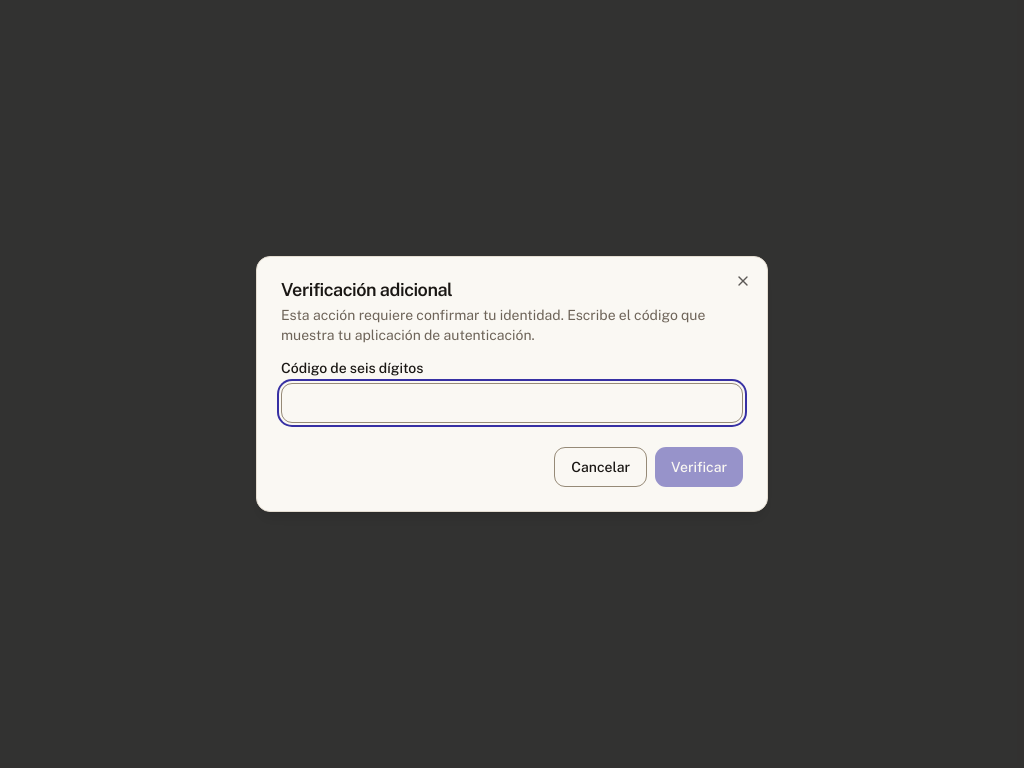
Test case: StepUpDialog › a refused code shows the uniform refusal and resolves nothing
Type "000000" into the field labelled "Código de seis dígitos".
click(512, 403); type("000000")  # box [281,383,743,423]
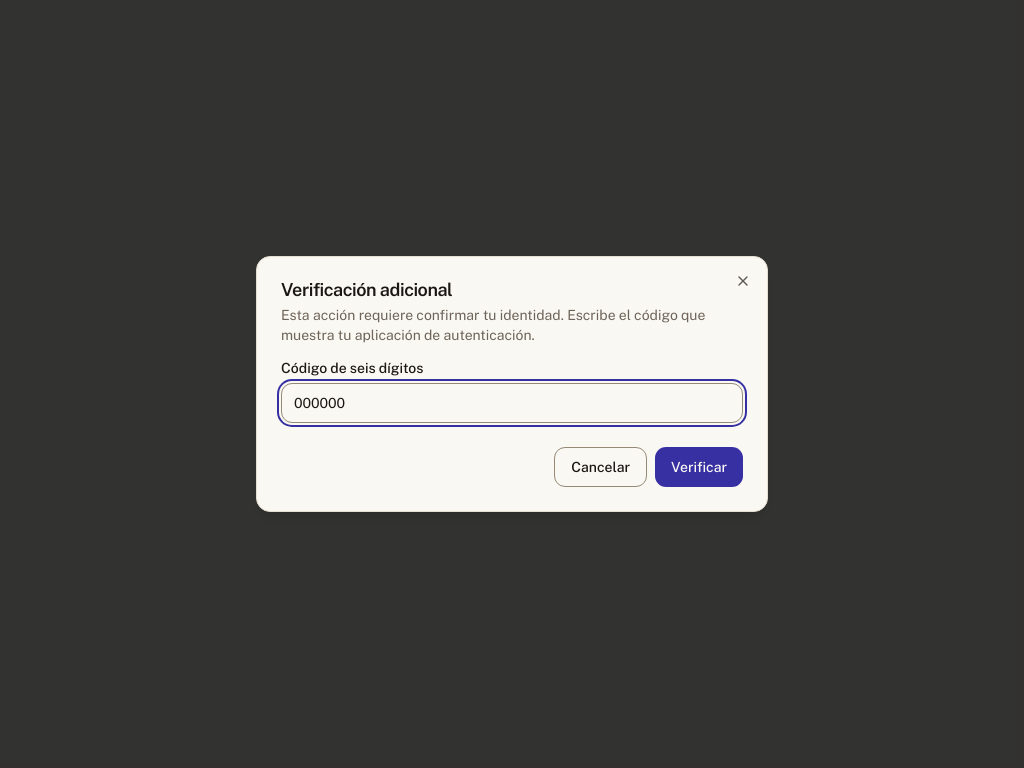
Click the button "Verificar".
click(699, 467)  # box [655,447,743,487]
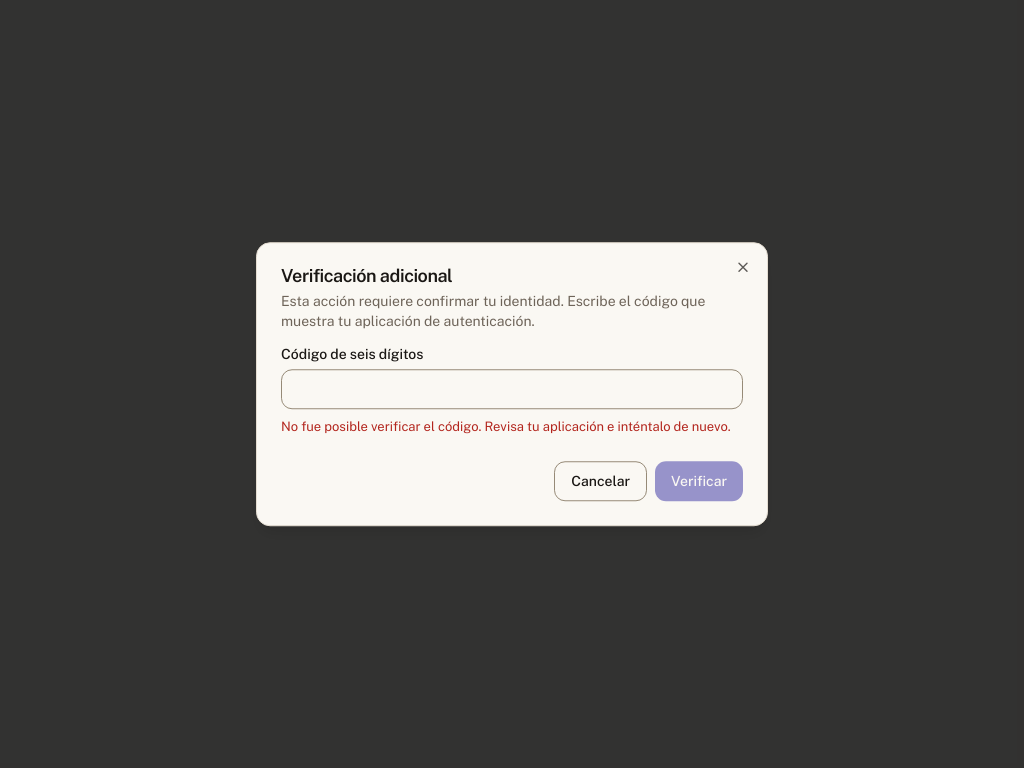
Check: the message shows "No fue posible verificar el código", box [281,419,731,434]
Check: the field labelled "Código de seis dígitos" is empty, box [281,369,743,409]
